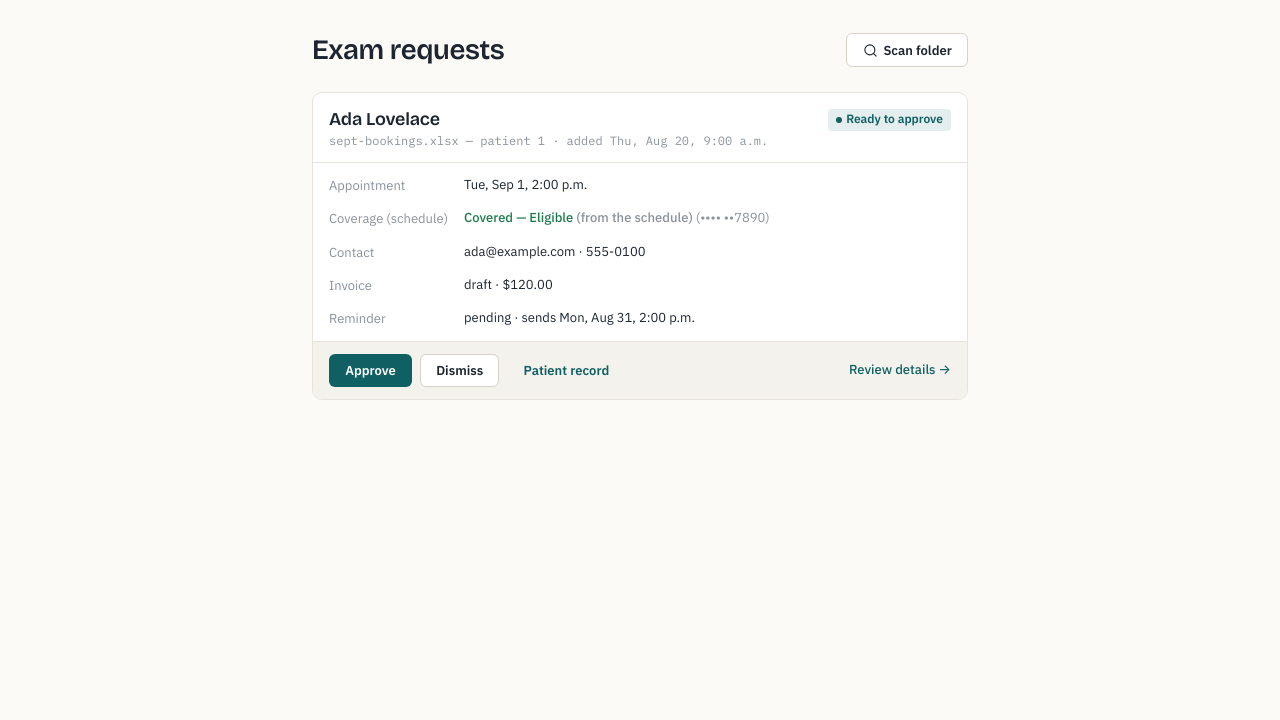
Inbox › previews the reminder before it is sent
Check: the heading "Ada Lovelace" is shown, box top-left (329, 108), bottom-right (440, 130)
Click the button "Review details →".
click(900, 370)  # box top-left (849, 360), bottom-right (951, 380)
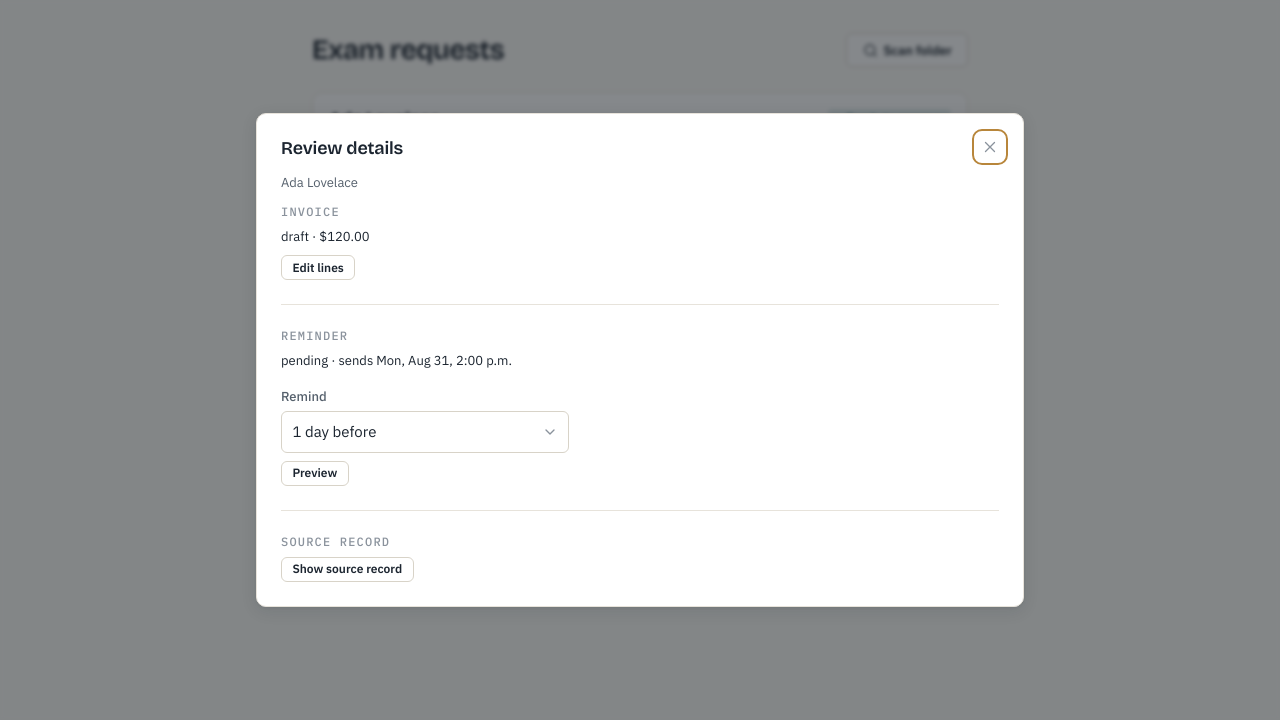
Click the button "Preview".
click(315, 473)  # box top-left (281, 461), bottom-right (349, 486)
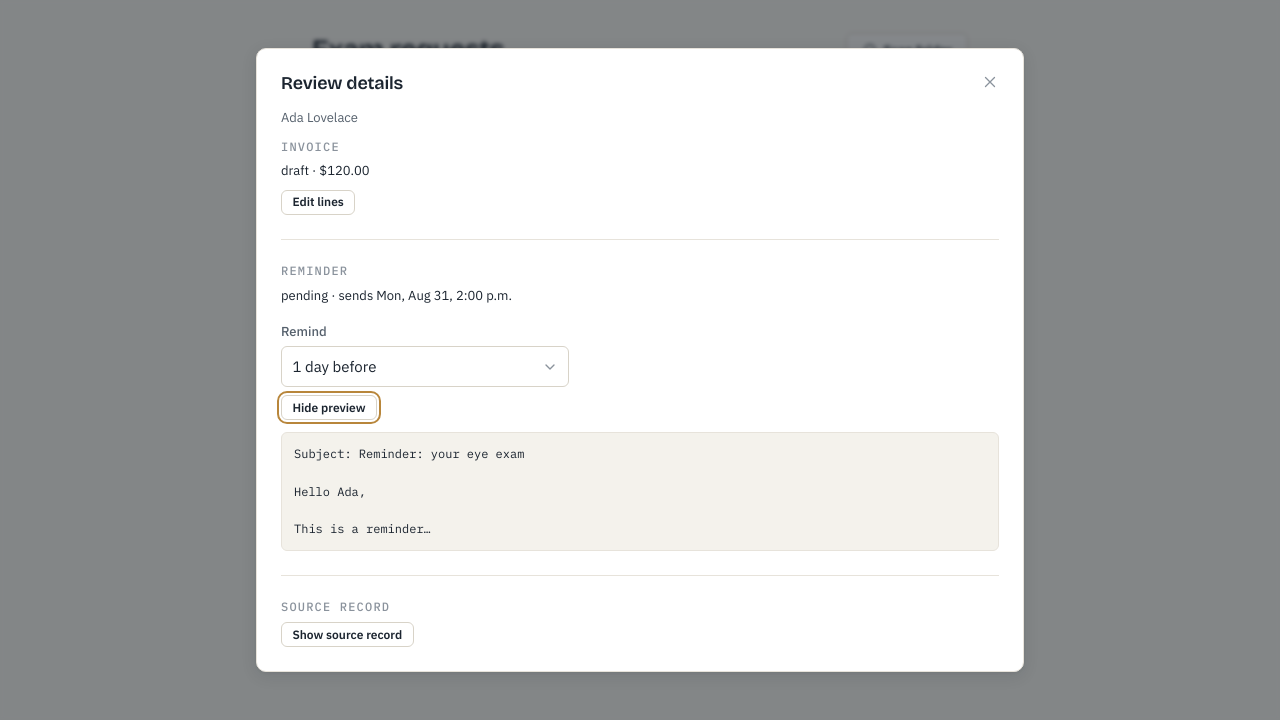
Check: the text "This is a reminder" is shown, box top-left (294, 446), bottom-right (524, 536)
